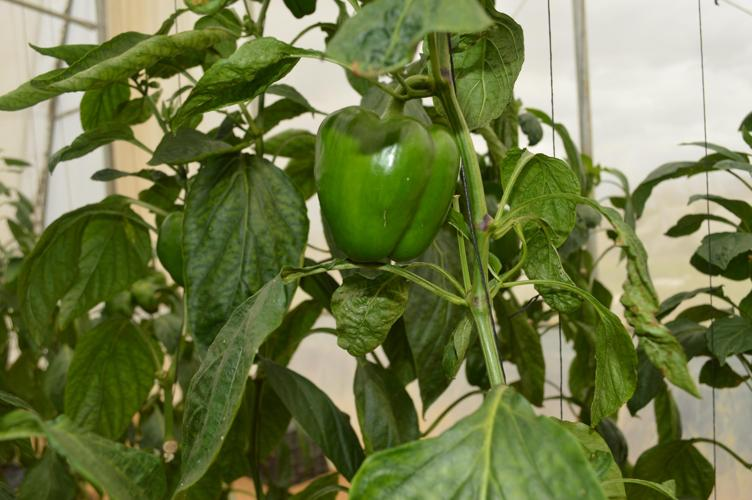BellPepper: (307, 94, 459, 271)
